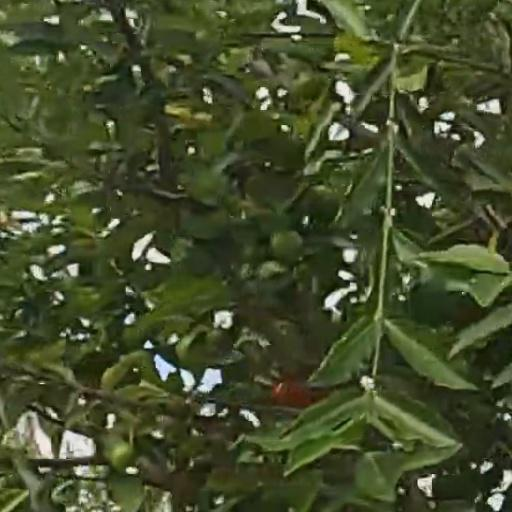acerola_vermelha: (273, 380, 308, 405)
